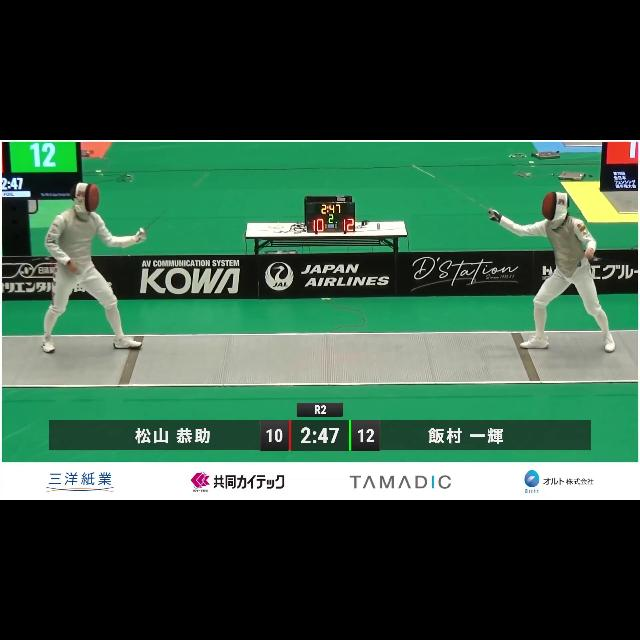blade: (130, 166, 220, 244), (412, 160, 504, 222)
